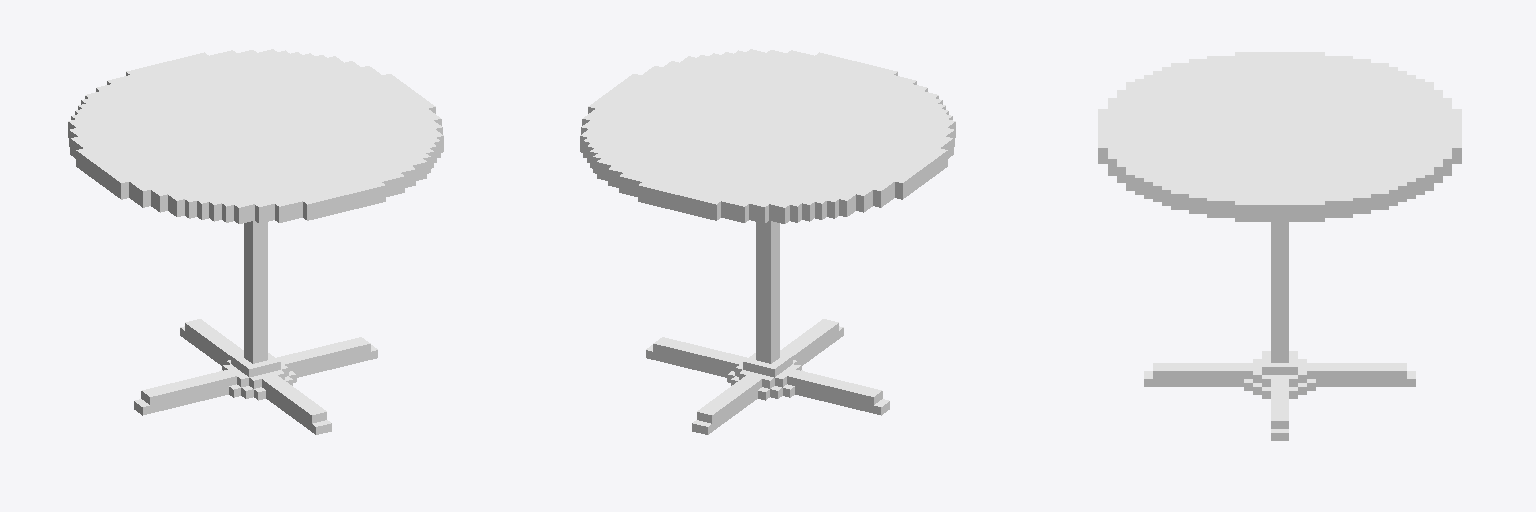
File: circle-table.obj
3 renders of one model, left to right at view 1: azimuth 30°, elevation 25°; view 2: azimuth 150°, elevation 25°; view 3: azimuth 270°, elevation 25°, orthographic.
Visible parts, largest first — view 1: object 1; view 2: object 1; view 3: object 1.
Boxes of the visible parts, <box> form: object 1: <box>68,49,443,434</box>; object 1: <box>580,49,955,434</box>; object 1: <box>1098,52,1461,440</box>.
Size of the model in its own units: 4 by 3.1 by 4.